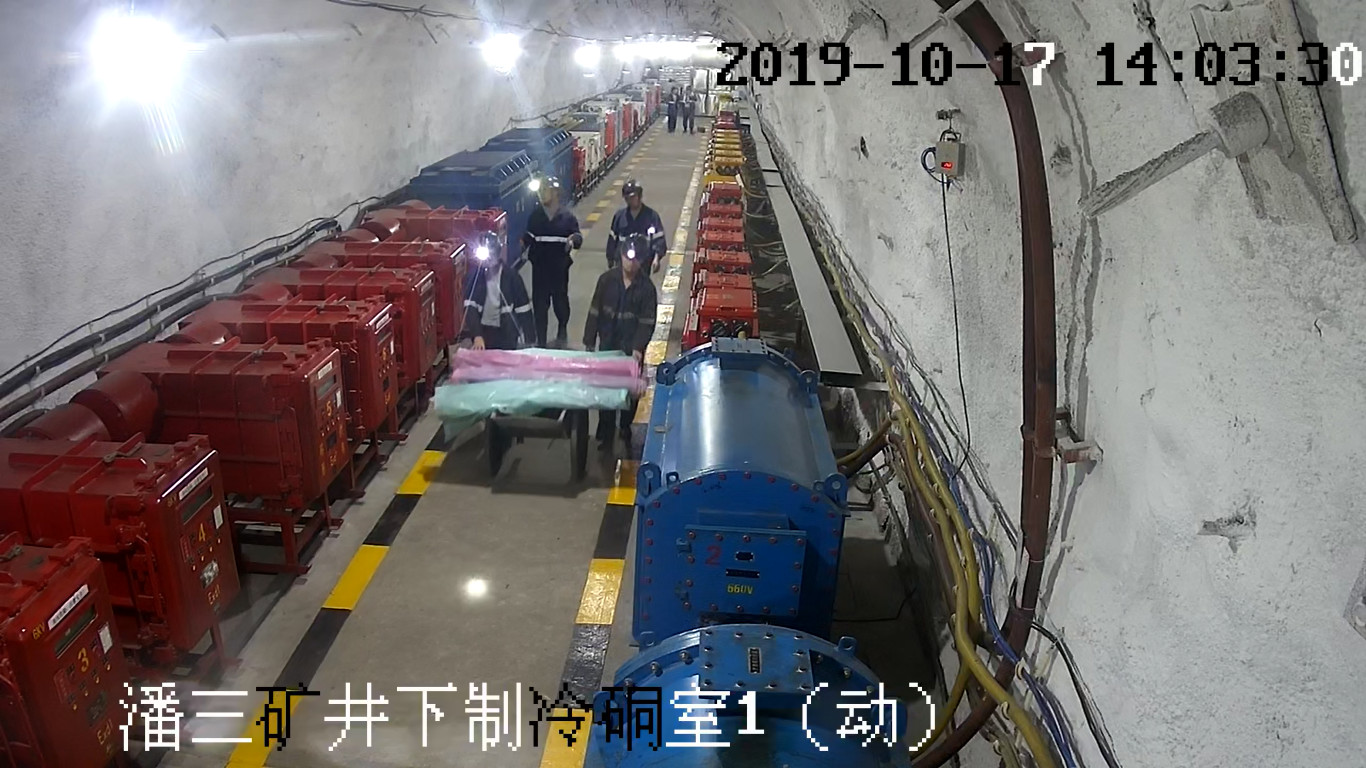helmet: (471, 230, 503, 260), (621, 231, 648, 260), (527, 175, 561, 192), (621, 180, 642, 197), (685, 84, 693, 91), (670, 86, 677, 92)
